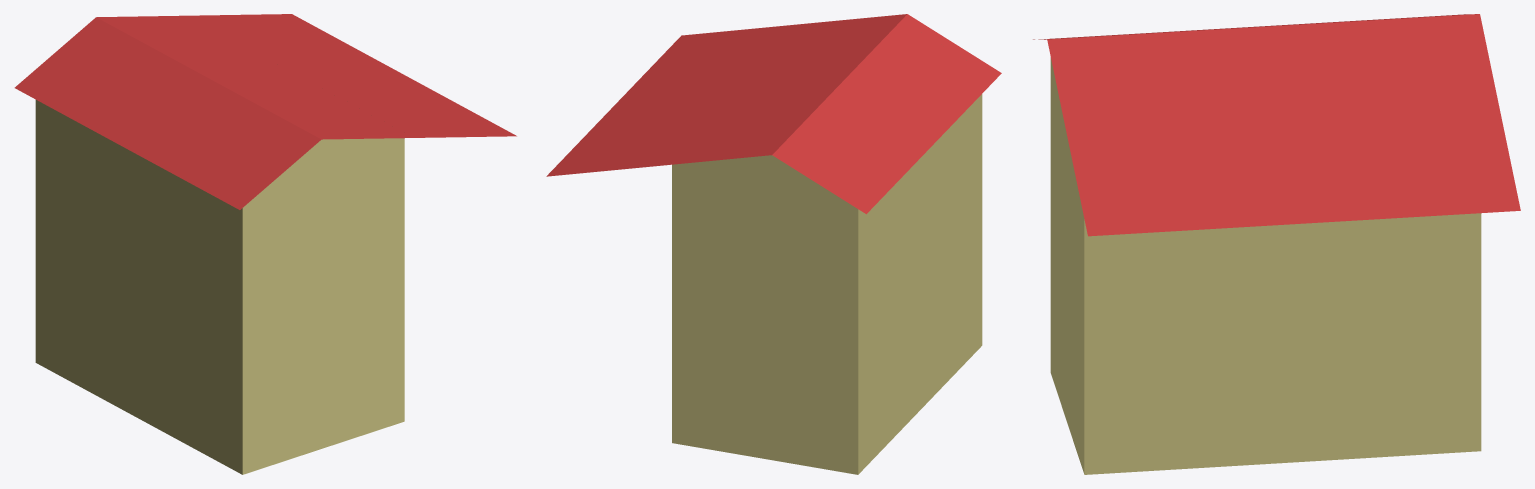
3 views of the same model, side by side, from view 1: azimuth 30°, elevation 25°; view 2: azimuth 150°, elevation 25°; view 3: azimuth 270°, elevation 25° (orthographic). The views are drawn at different scales.
Bounding box in the file's own units: 6.52 × 6.73 × 5.73.
